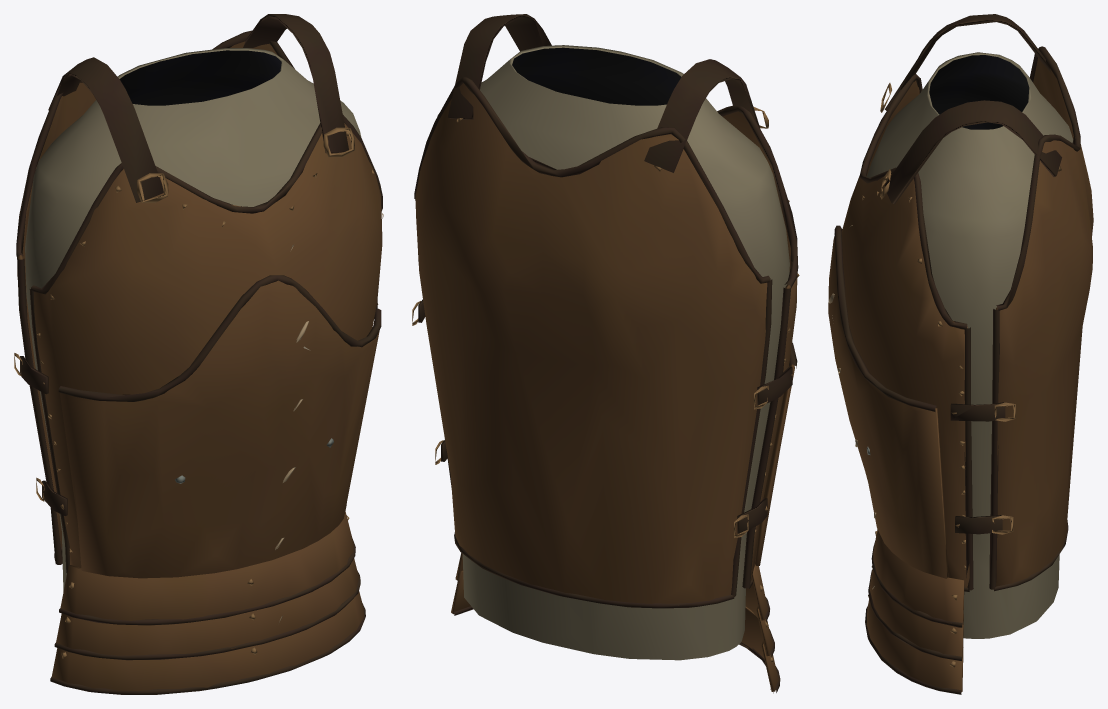
The picture shows the model from 3 angles, left to right: view 1: azimuth 30°, elevation 25°; view 2: azimuth 150°, elevation 25°; view 3: azimuth 270°, elevation 25°; orthographic projection. The views are drawn at different scales.
Parts seen in each view (by area): view 1: quilted linen lining, aged alloy edge; view 2: quilted linen lining, aged alloy edge; view 3: quilted linen lining, aged alloy edge.
Boxes of the visible parts, x1=… form: quilted linen lining: x1=16, y1=14, x2=382, y2=694; aged alloy edge: x1=14, y1=127, x2=383, y2=658; quilted linen lining: x1=414, y1=14, x2=798, y2=693; aged alloy edge: x1=412, y1=106, x2=799, y2=662; quilted linen lining: x1=828, y1=14, x2=1093, y2=694; aged alloy edge: x1=862, y1=83, x2=1061, y2=667.
Bounding box in the file's own units: 0.3921 × 0.6465 × 0.2754.
